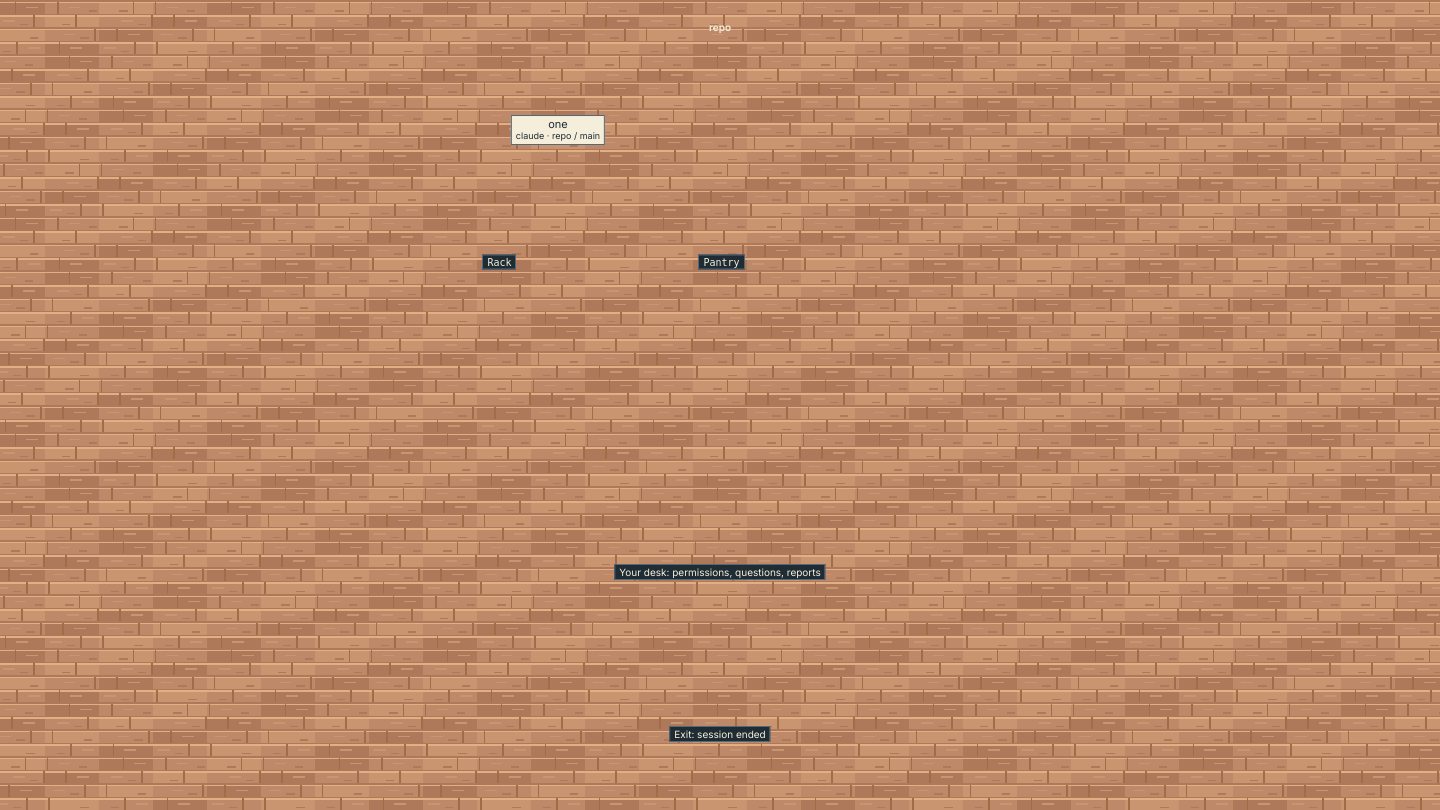
it: office page › shows working and reported juniors on the main agent card
Step 1. Click the button with test id "name-plate" → (558, 130), box [511,115,605,145]
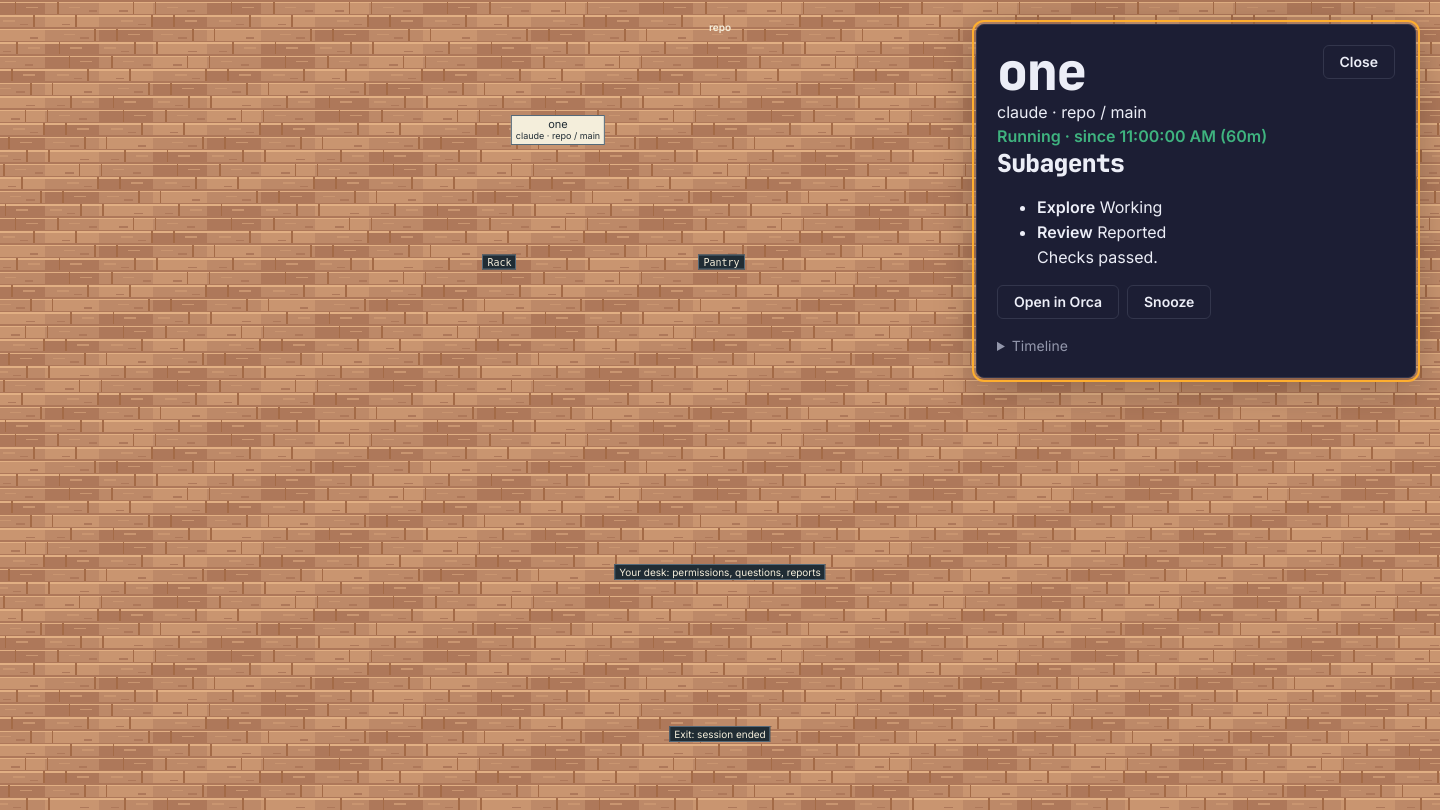
Expected: the element "Subagents" reads "Subagents Explore Working Review Reported Checks passed.", [997,147,1166,266]
